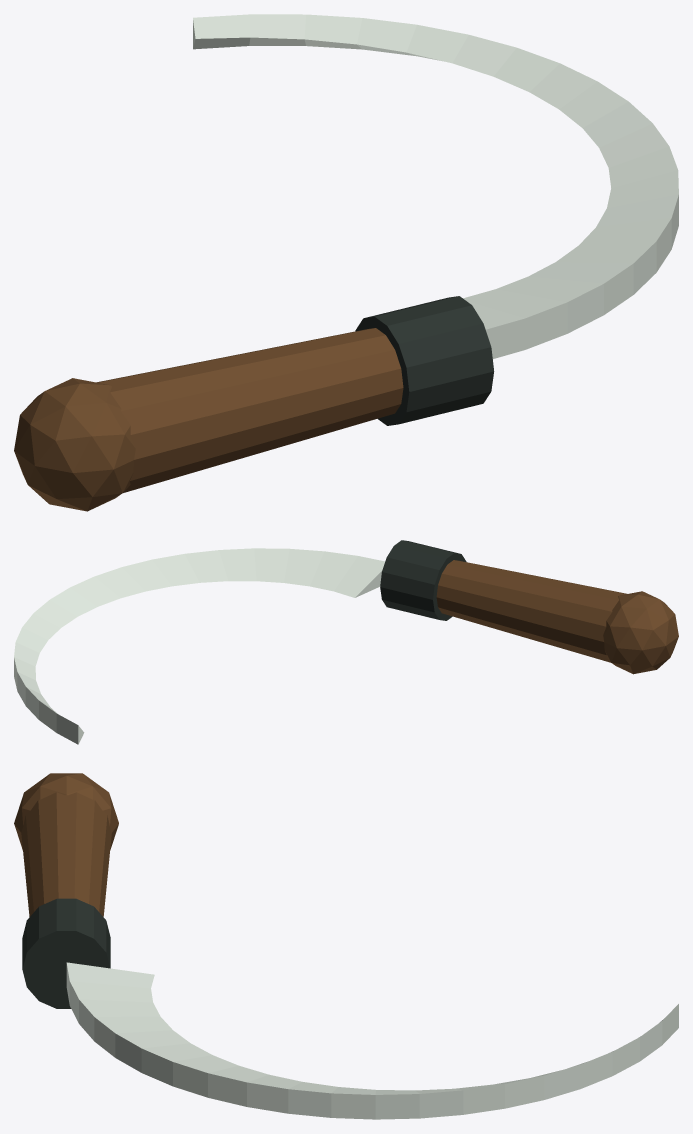
Rendered from sickle.glb.
The picture shows the model from 3 angles, top to bottom: view 1: azimuth 30°, elevation 25°; view 2: azimuth 150°, elevation 25°; view 3: azimuth 270°, elevation 25°; orthographic projection. The views are drawn at different scales.
Parts seen in each view (by area): view 1: __exp_sickle; view 2: __exp_sickle; view 3: __exp_sickle.
Boxes of the visible parts, x1=… form: __exp_sickle: x1=14, y1=14, x2=678, y2=511; __exp_sickle: x1=14, y1=540, x2=678, y2=744; __exp_sickle: x1=14, y1=773, x2=678, y2=1119.
Bounding box in the file's own units: 0.4255 × 0.062 × 0.3919.
